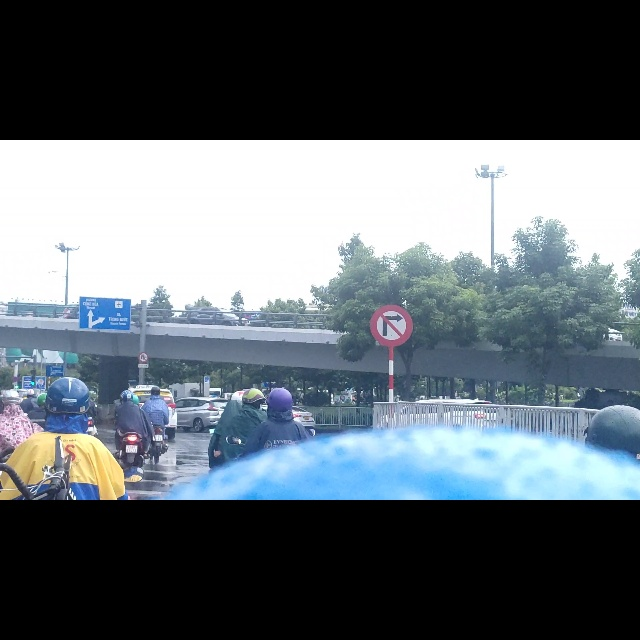bien_cam: (371, 291, 413, 368)
